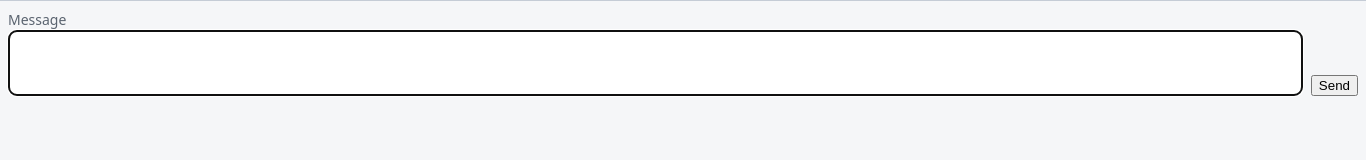
Composer › sends on Enter, empties the box and keeps the focus in it
This screenshot has width=1366, height=160.
Type "hello" into the text box labelled "Message" at (655, 63), box left=8, top=30, right=1303, bottom=96
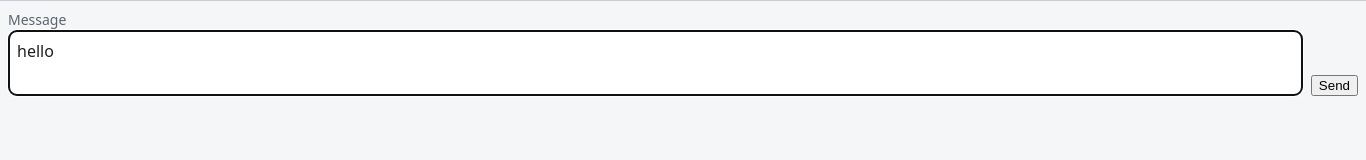
Press Enter in the text box labelled "Message", box left=8, top=30, right=1303, bottom=96
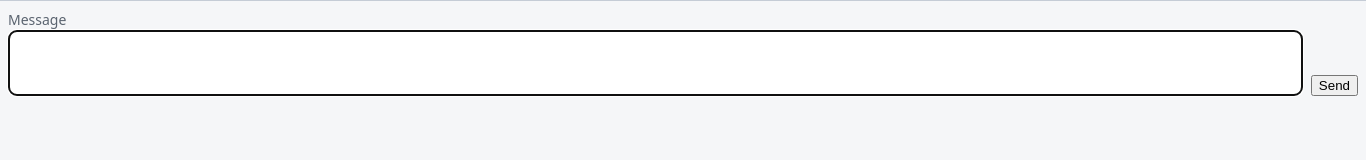
Now the text box labelled "Message" is empty, box left=8, top=30, right=1303, bottom=96
